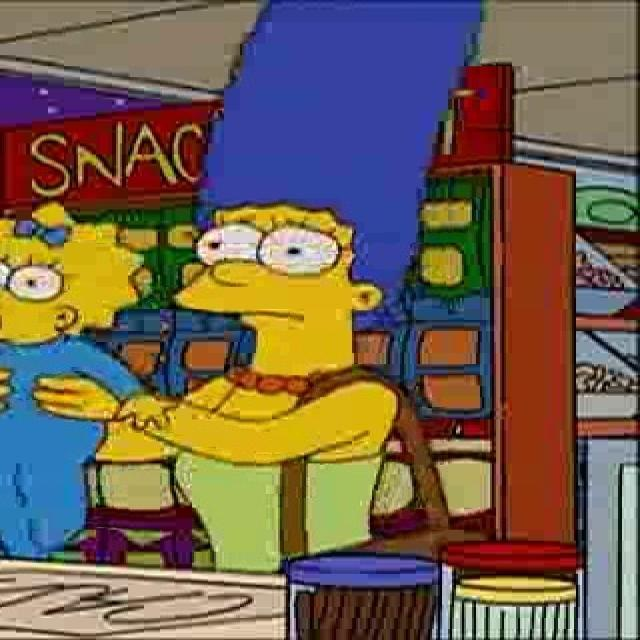Maggie Simpson: (1, 200, 151, 349)
Marge Simpson: (171, 0, 489, 392)
